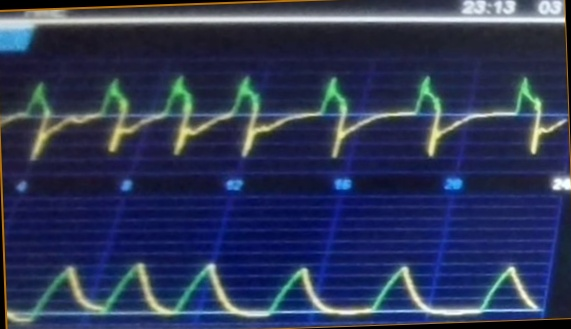Accumulation Flow: (3, 68, 567, 162)
Volume: (8, 245, 538, 320)
